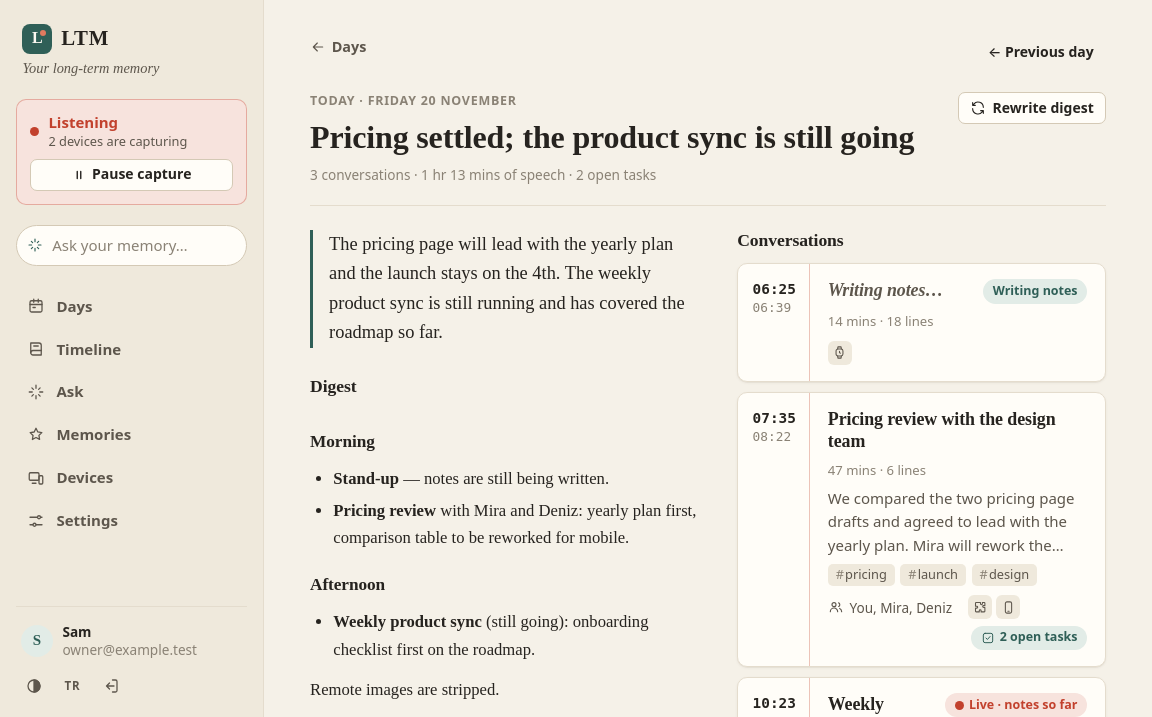
Test: days › shows a day's digest sanitised, its status and a regenerate action
Check: the heading "Pricing settled; the product sync is still going" is shown, box [310,117,942,157]
Check: the heading "Digest" is shown, box [310,376,356,396]
Click the button "Rewrite digest" at [1032, 108], box [958,92,1106,124]
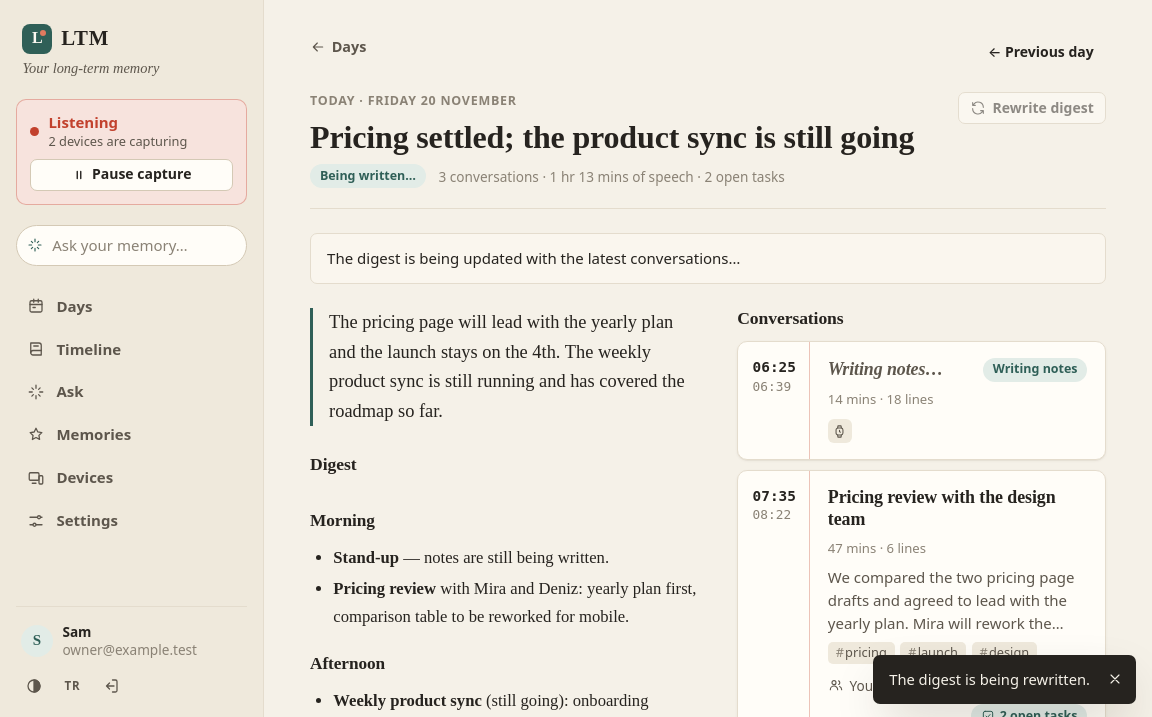
Check: the text "Being written…" is shown, box [310,164,426,188]
